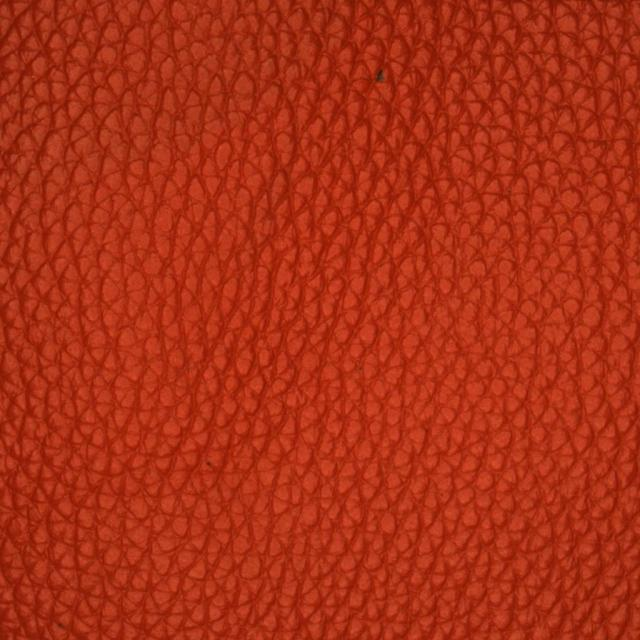Hole: (298, 15, 464, 150)
